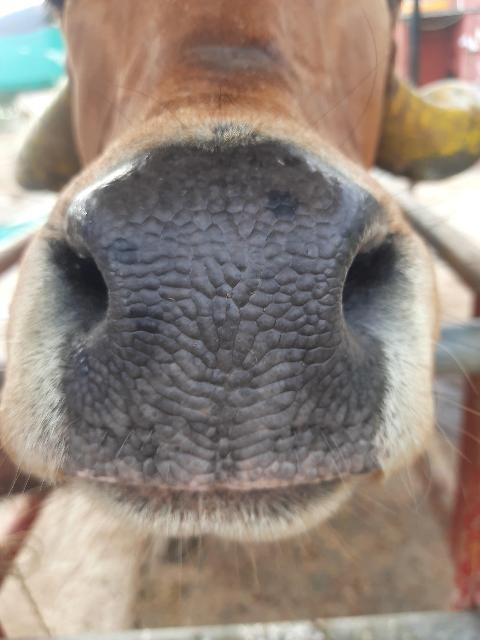Muzzle: (74, 181, 366, 481)
